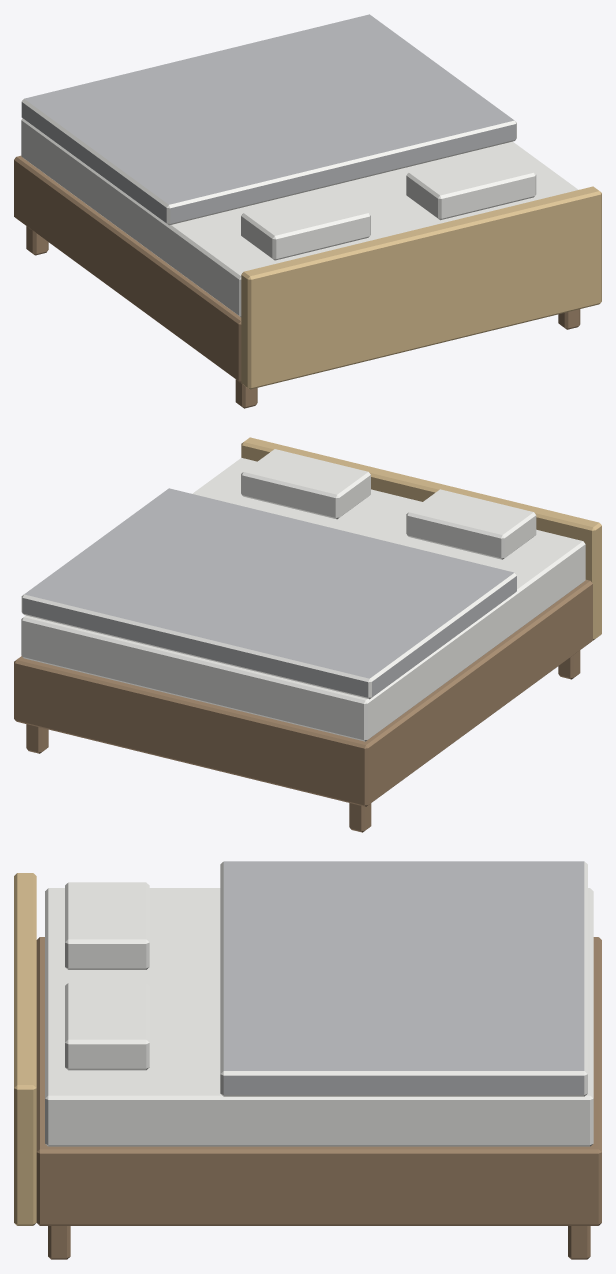
The model's file is 家具_双人床_01.fbx.
3 renders of one model, top to bottom at view 1: azimuth 30°, elevation 25°; view 2: azimuth 150°, elevation 25°; view 3: azimuth 270°, elevation 25°, orthographic. The views are drawn at different scales.
Visible parts, largest first — view 1: 床品.001, 床头板.001, 床垫.001, 床架.001, 床腿.001; view 2: 床品.001, 床架.001, 床垫.001, 床头板.001, 床腿.001; view 3: 床品.001, 床垫.001, 床架.001, 床头板.001, 床腿.001.
Boxes of the visible parts, x1,y1,x2,y2 form: 床品.001: [21, 14, 536, 260]; 床头板.001: [241, 186, 601, 389]; 床垫.001: [21, 118, 578, 317]; 床架.001: [14, 155, 241, 382]; 床腿.001: [26, 226, 580, 408]; 床品.001: [21, 449, 536, 699]; 床架.001: [14, 579, 592, 806]; 床垫.001: [21, 458, 585, 741]; 床头板.001: [241, 437, 601, 640]; 床腿.001: [26, 650, 580, 832]; 床品.001: [65, 861, 587, 1096]; 床垫.001: [45, 888, 593, 1146]; 床架.001: [36, 937, 601, 1225]; 床头板.001: [14, 873, 36, 1225]; 床腿.001: [48, 1226, 590, 1259].
Bounding box in the file's own units: 180 × 77 × 208.
